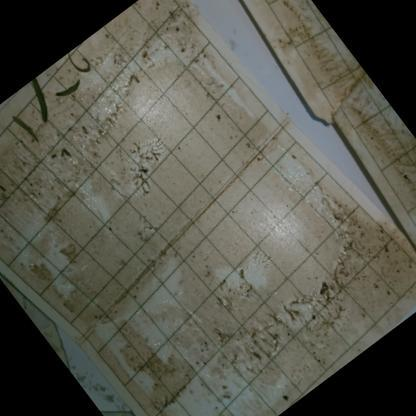prays_oleae: (59, 141, 78, 162), (0, 177, 13, 199)
